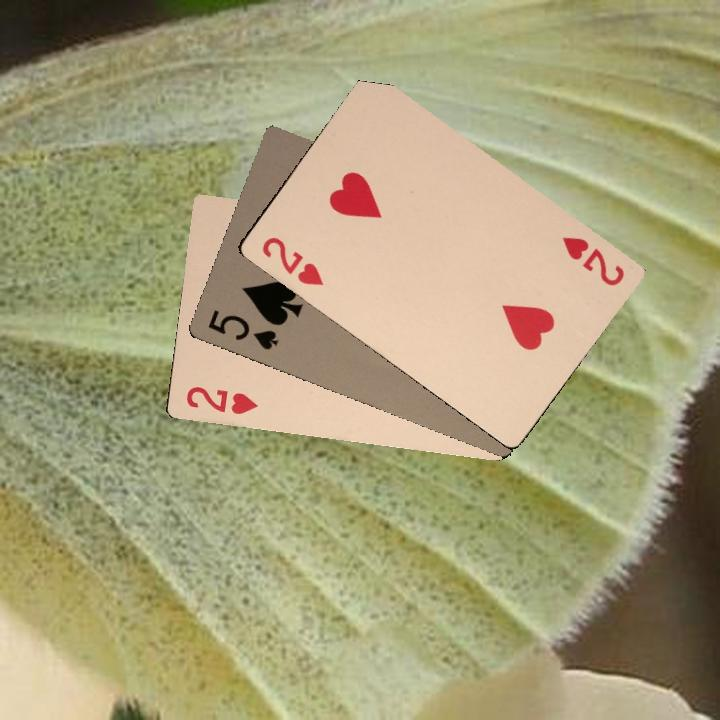2h: (257, 232, 326, 289), (558, 232, 627, 289), (182, 382, 260, 417)
5s: (204, 306, 281, 353)
